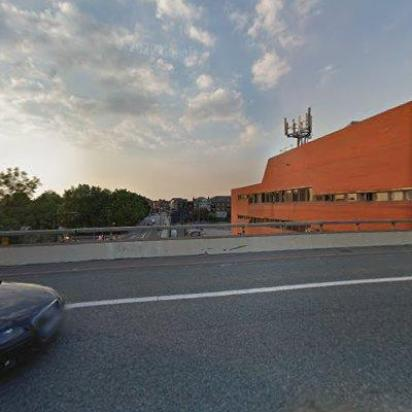moving-car: (0, 281, 64, 401)
